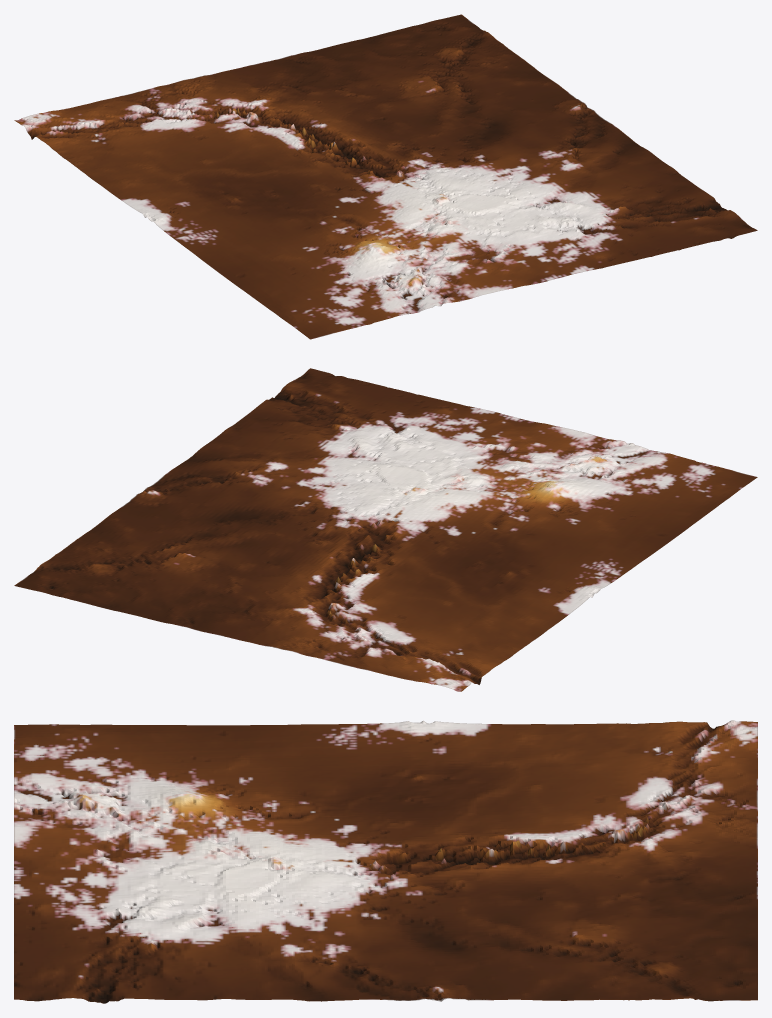
The model's file is region_oblast_atla_maat.glb.
3 renders of one model, top to bottom at view 1: azimuth 30°, elevation 25°; view 2: azimuth 150°, elevation 25°; view 3: azimuth 270°, elevation 25°, orthographic. The views are drawn at different scales.
Visible parts, largest first — view 1: geometry_0; view 2: geometry_0; view 3: geometry_0.
Part boxes in pixels (x1,y1,x2,y2): geometry_0: (14, 14, 757, 339); geometry_0: (14, 368, 757, 691); geometry_0: (14, 720, 757, 1003).
Bounding box in the file's own units: 2293 × 75.24 × 2630.
1 material, 1 textured.
